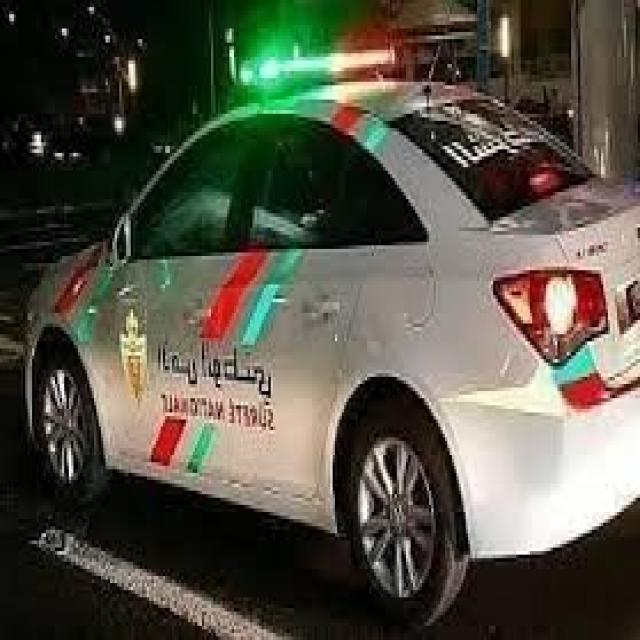police: (24, 39, 637, 634)
